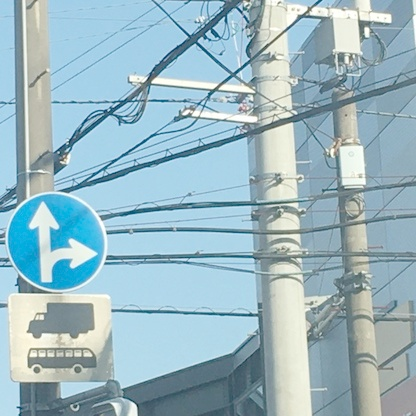Direction_sign: (1, 187, 103, 313)
